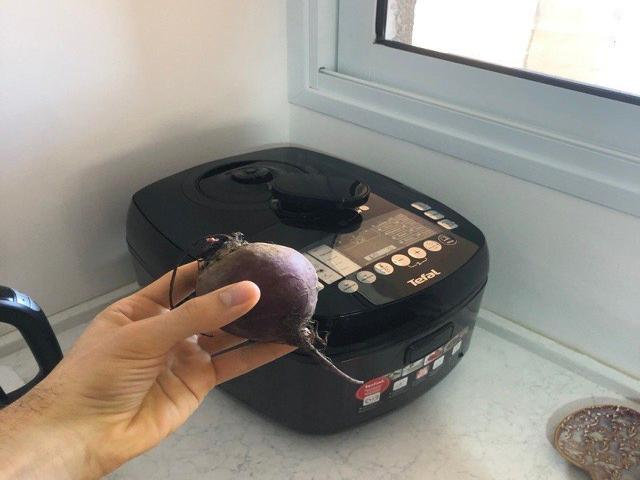beet: (171, 232, 363, 386)
